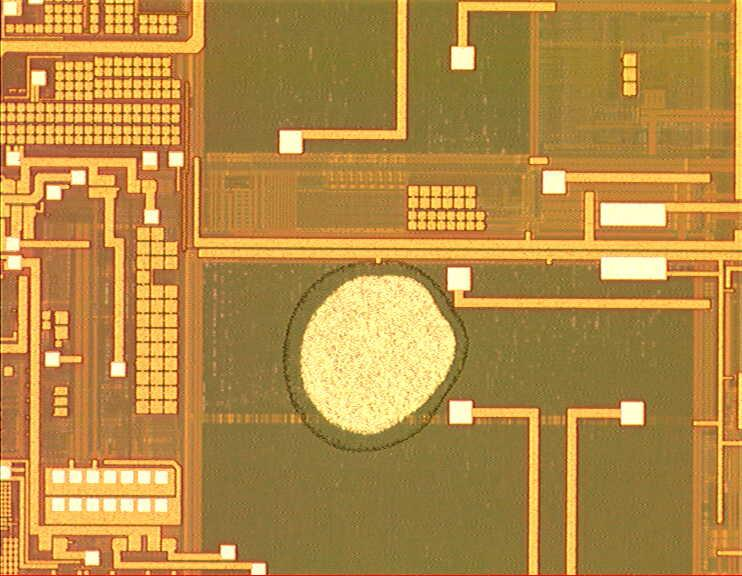BLOCK ETCH: (279, 257, 474, 457)
